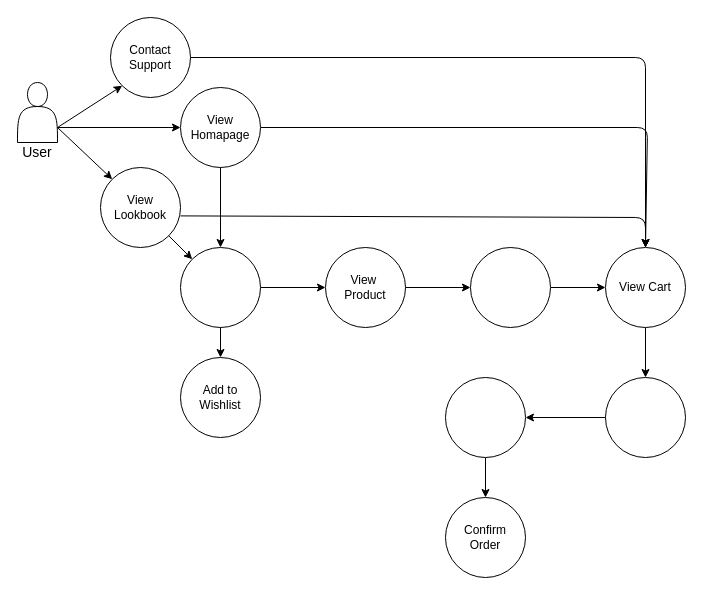
The diagram is 703 pixels wide and 595 high, and some of its shapes have lost their labels. The shapes that lost their labels are listed below. From the top down, each one's box as (x1, y1, x2, y2) in pixels, then its label:
(180, 246, 260, 328): Browse Products
(470, 246, 550, 328): Add to Cart
(444, 376, 526, 458): Enter Payment Details
(604, 376, 686, 458): Checkout Products
